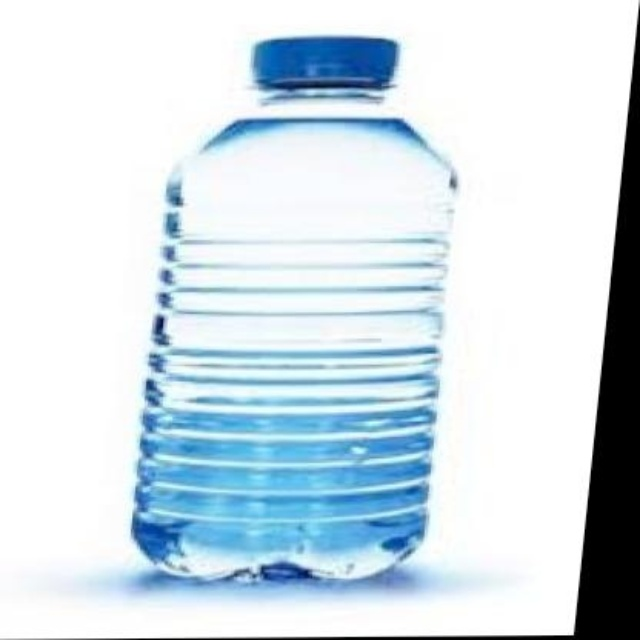trash: (132, 37, 455, 577)
